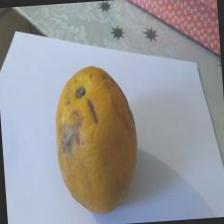Orange Rotten: (42, 55, 148, 224)
